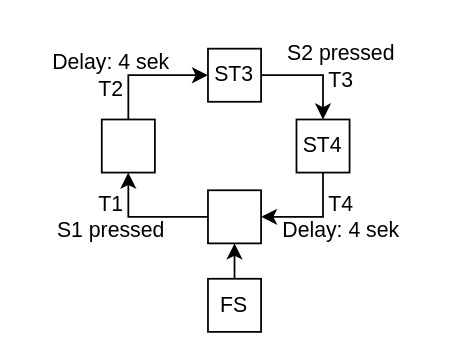
This 450x363 diagram has some shape labels left out. The centre of each missing label's shape, as x and y in pixels:
"ST1" goes at pixel 233 216.
"ST2" goes at pixel 127 145.
